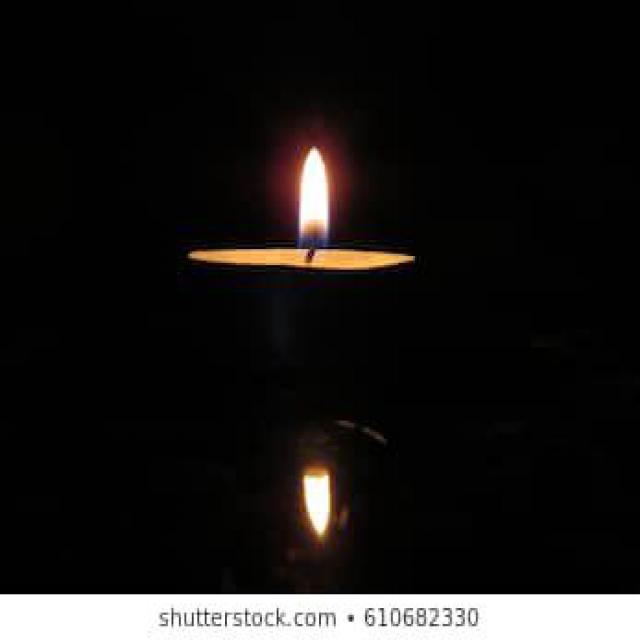Fire: (298, 146, 328, 258), (302, 468, 332, 544)
